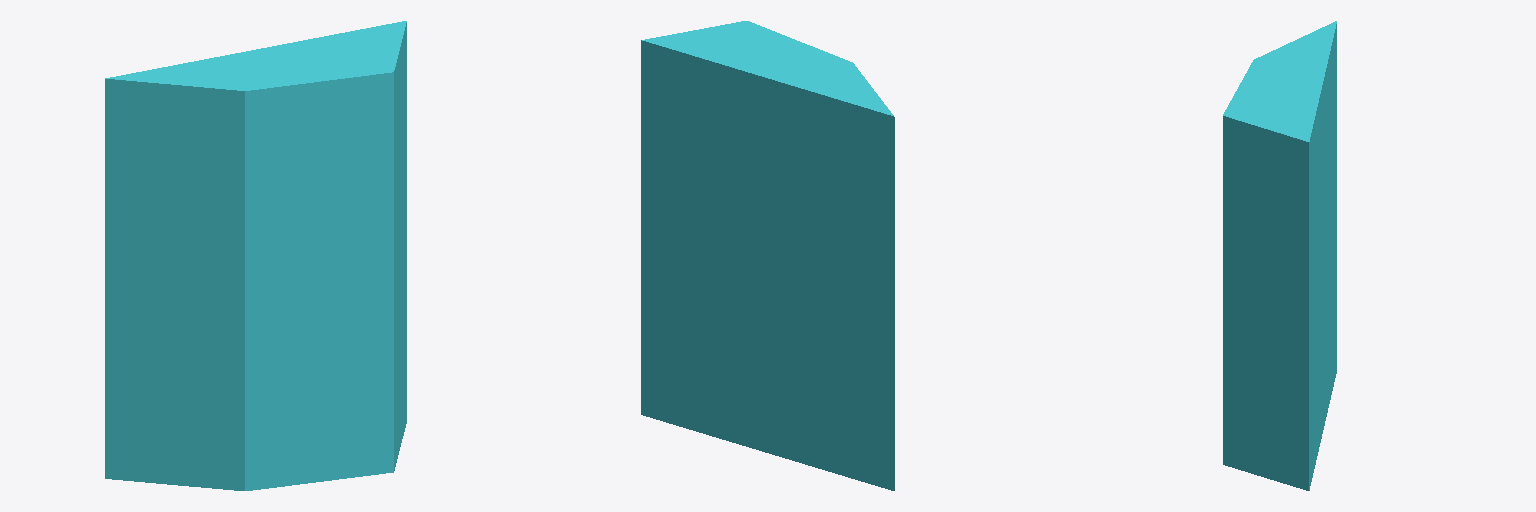
The robot description file, URDF, robot "quad_prism_6":
<?xml version="1.0" ?>
<robot name="quad_prism_6">
  <link name="base_link">
    <visual>
      <origin xyz="0 0 0" rpy="0 0 0"/>
      <geometry>
        <mesh filename="quad_prism_6.stl"/>
      </geometry>
      <material name="color">
        <color rgba="0.34357842104241965 0.8805961957979073 0.9196388994355543 1.0"/>
      </material>
    </visual>
    <collision>
      <origin xyz="0 0 0" rpy="0 0 0"/>
      <geometry>
        <mesh filename="quad_prism_6.stl"/>
      </geometry>
    </collision>
    <inertial>
      <origin xyz="0 0 0" rpy="0 0 0"/>
      <mass value="1.0"/>
      <inertia ixx="0.1" ixy="0" ixz="0" iyy="0.1" iyz="0" izz="0.1"/>
    </inertial>
  </link>
</robot>

--- Facts derived from the render (not from the file) ---
3 views of the same robot in one strip: view 1: azimuth 30°, elevation 25°; view 2: azimuth 150°, elevation 25°; view 3: azimuth 270°, elevation 25° (orthographic).
Model quad_prism_6 with 1 links and 0 joints (none), rooted at base_link, posed every joint at zero.
Visible links, largest first — view 1: base_link; view 2: base_link; view 3: base_link.
Link boxes in pixels (x1,y1,x2,y2): base_link: (105, 21, 406, 490); base_link: (641, 21, 894, 490); base_link: (1223, 21, 1336, 490).
Bounding box of the posed robot: 2.25 × 0.8944 × 3 m (x, y, z).
Meshes: 1 distinct files referenced, 1 mesh visuals loaded (1 binary STL).